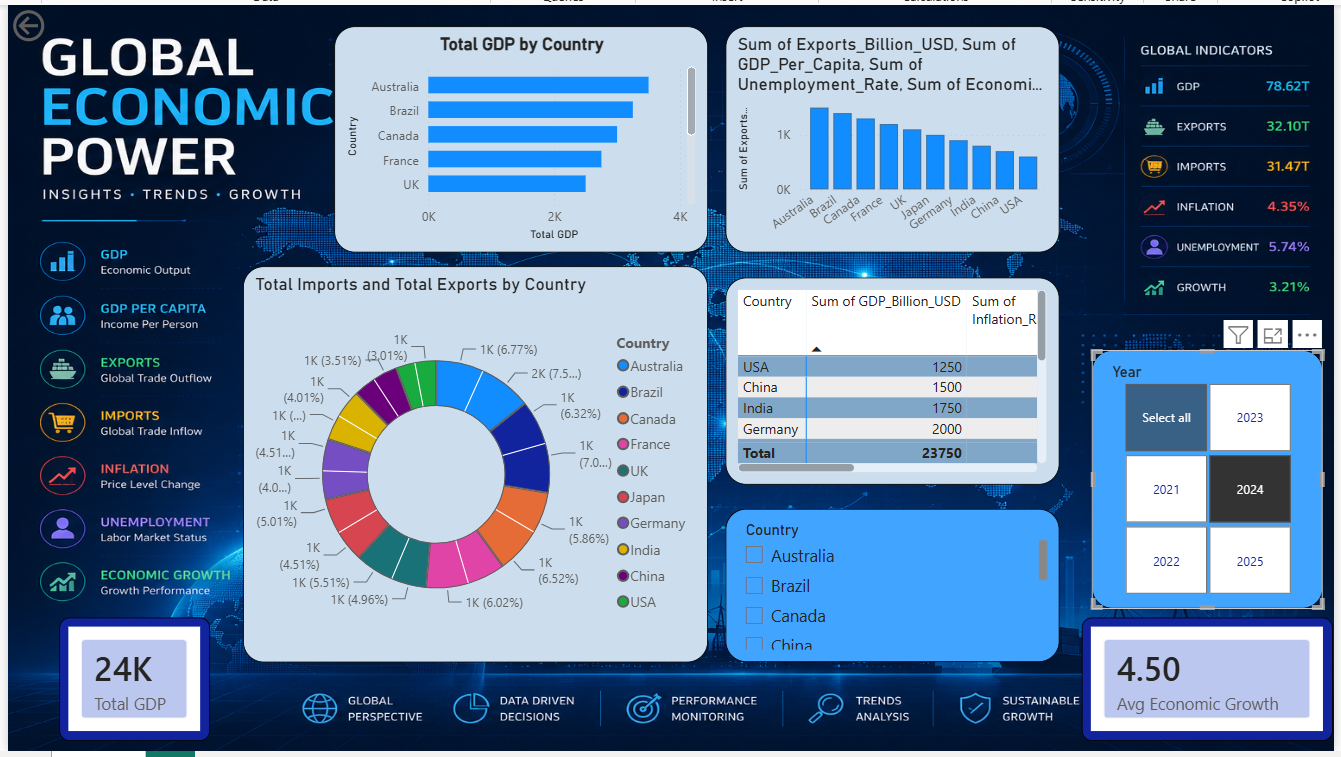

This screenshot's page, from the dashboard's own definition file:
{"tool":"powerbi","page":{"name":"Page 1","canvas":[1280,720],"ordinal":0},"visuals":[{"type":"cardVisual","fields":{"Data":["Economic_Power.Total GDP"]},"box":[49.5,591.2,146,119.4],"z":0},{"type":"cardVisual","fields":{"Data":["Economic_Power.Avg Economic Growth"]},"box":[1036.3,591.2,242.5,119.4],"z":1000},{"type":"clusteredBarChart","fields":{"Category":["Economic_Power.Country"],"Y":["Economic_Power.Total GDP"]},"box":[314.9,20.5,360.7,218.4],"z":2000},{"type":"clusteredColumnChart","fields":{"Category":["Economic_Power.Country"],"Y":["Sum(Economic_Power.Exports_Billion_USD)"]},"box":[692.5,20.5,322.1,218.4],"z":3000},{"type":"donutChart","fields":{"Category":["Economic_Power.Country"],"Y":["Economic_Power.Total Imports","Economic_Power.Total Exports"]},"box":[226.8,252.1,448.8,382.4],"z":4000},{"type":"pivotTable","fields":{"Rows":["Economic_Power.Country"],"Values":["Sum(Economic_Power.GDP_Billion_USD)","Sum(Economic_Power.Inflation_Rate)","Sum(Economic_Power.Unemployment_Rate)","Sum(Economic_Power.Economic_Growth_Percent)"]},"box":[692.5,262.4,322.1,200.3],"z":5000},{"type":"actionButton","box":[0,0,100,40],"z":6000},{"type":"slicer","fields":{"Values":["Economic_Power.Country"]},"box":[692.5,486.2,322.1,148.4],"z":7000},{"type":"slicer","fields":{"Values":["Economic_Power.Year"]},"box":[1046,333,223.2,249.7],"z":8000}]}

Visuals, with their boxes in screenshot pixels (x1, y1, x2, y2):
cardVisual - Economic_Power.Total GDP: locate(58, 614, 209, 738)
cardVisual - Economic_Power.Avg Economic Growth: locate(1078, 614, 1328, 738)
clusteredBarChart - Economic_Power.Country x Economic_Power.Total GDP: locate(332, 25, 705, 250)
clusteredColumnChart - Economic_Power.Country x Sum(Economic_Power.Exports_Billion_USD): locate(722, 25, 1055, 250)
donutChart - Economic_Power.Country x Economic_Power.Total Imports: locate(241, 264, 705, 659)
pivotTable - Economic_Power.Country x Sum(Economic_Power.GDP_Billion_USD): locate(722, 275, 1055, 482)
actionButton: locate(7, 3, 110, 45)
slicer - Economic_Power.Country: locate(722, 506, 1055, 659)
slicer - Economic_Power.Year: locate(1088, 348, 1318, 606)
